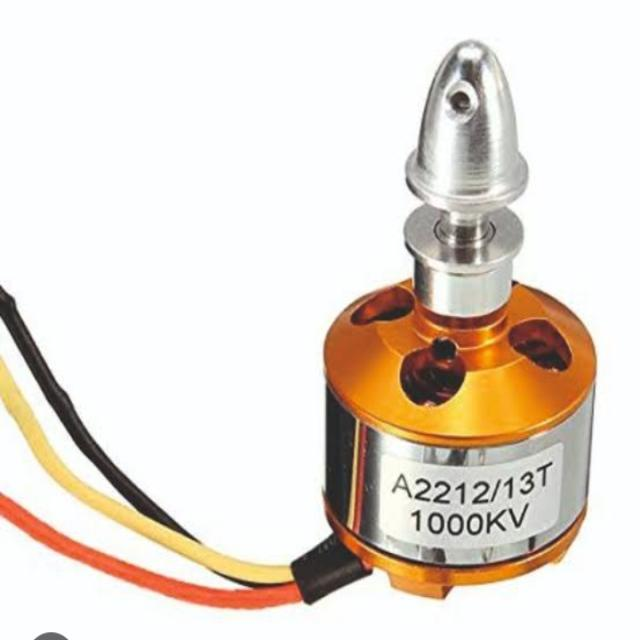motor: (319, 44, 595, 591)
